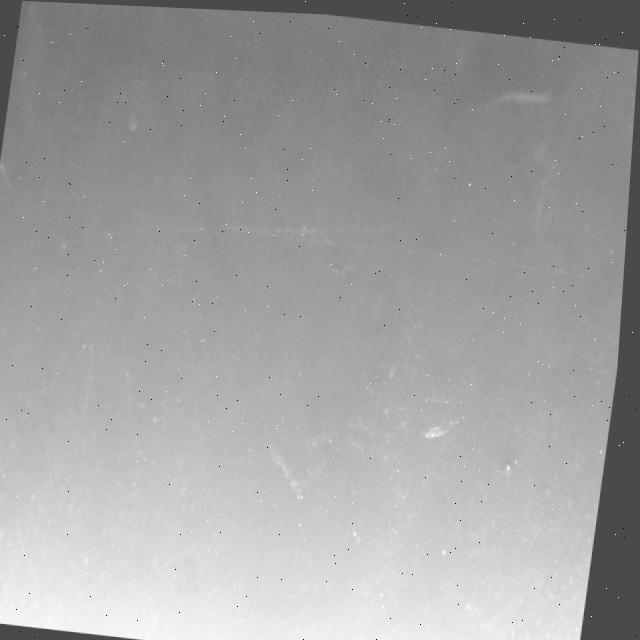beta: (59, 176, 445, 289), (115, 328, 163, 410), (82, 323, 106, 427), (0, 154, 18, 195)
